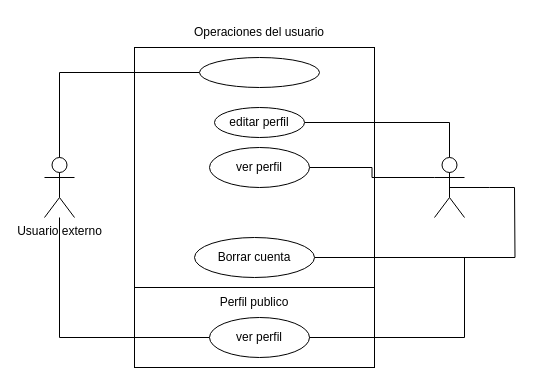
This 534x385 diagram has some shape labels left out. The shapes that lost their labels are listed below. From the top down, each one's box as (x1, y1, x2, y2) in pixels, then its label:
(198, 56, 320, 88): crear cuenta
(434, 156, 464, 218): Usiario con sesion iniciada
